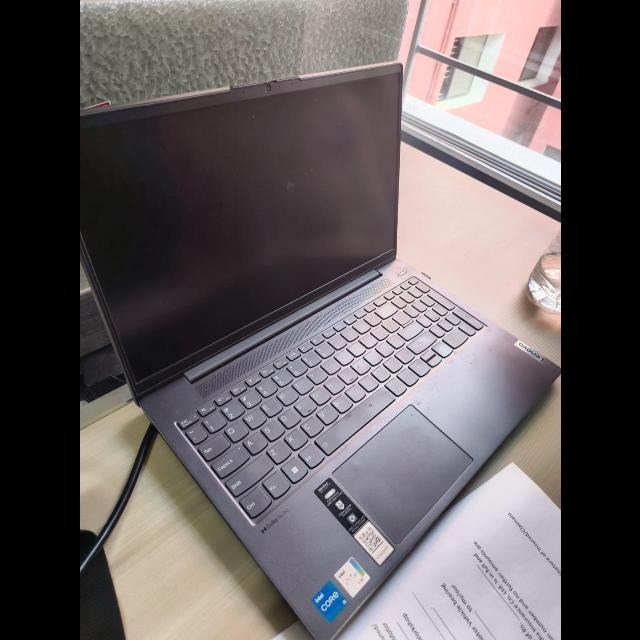laptop: (84, 58, 538, 612)
